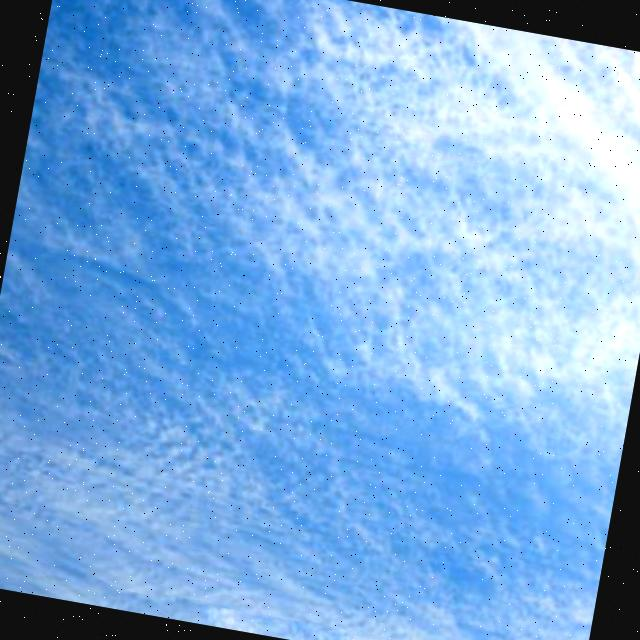Cc: (1, 1, 640, 630)
